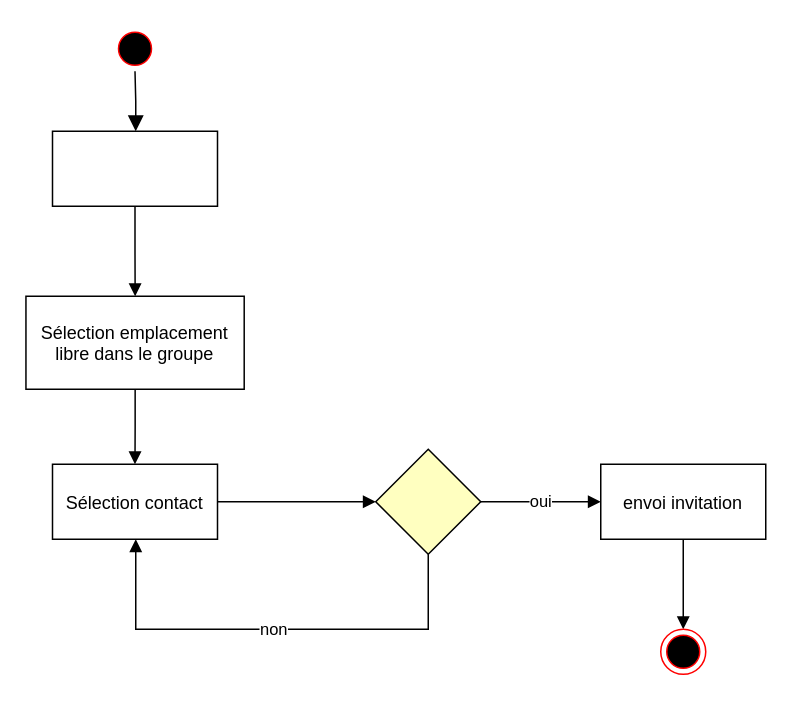
The diagram is 794 pixels wide and 701 high, and some of its shapes have lost their labels. Each missing label, with the centre of its shape:
Connexion: [134,168]
Contact connecté: [427,501]
